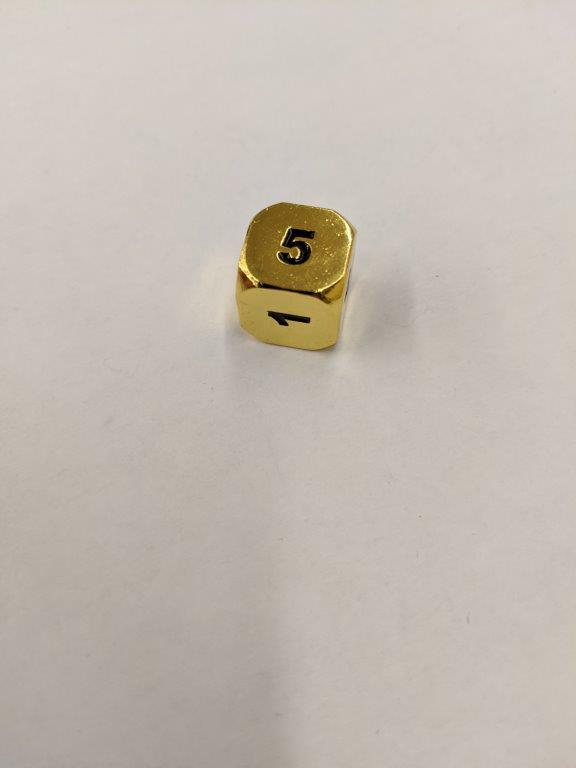d6-5: (233, 199, 354, 352)
